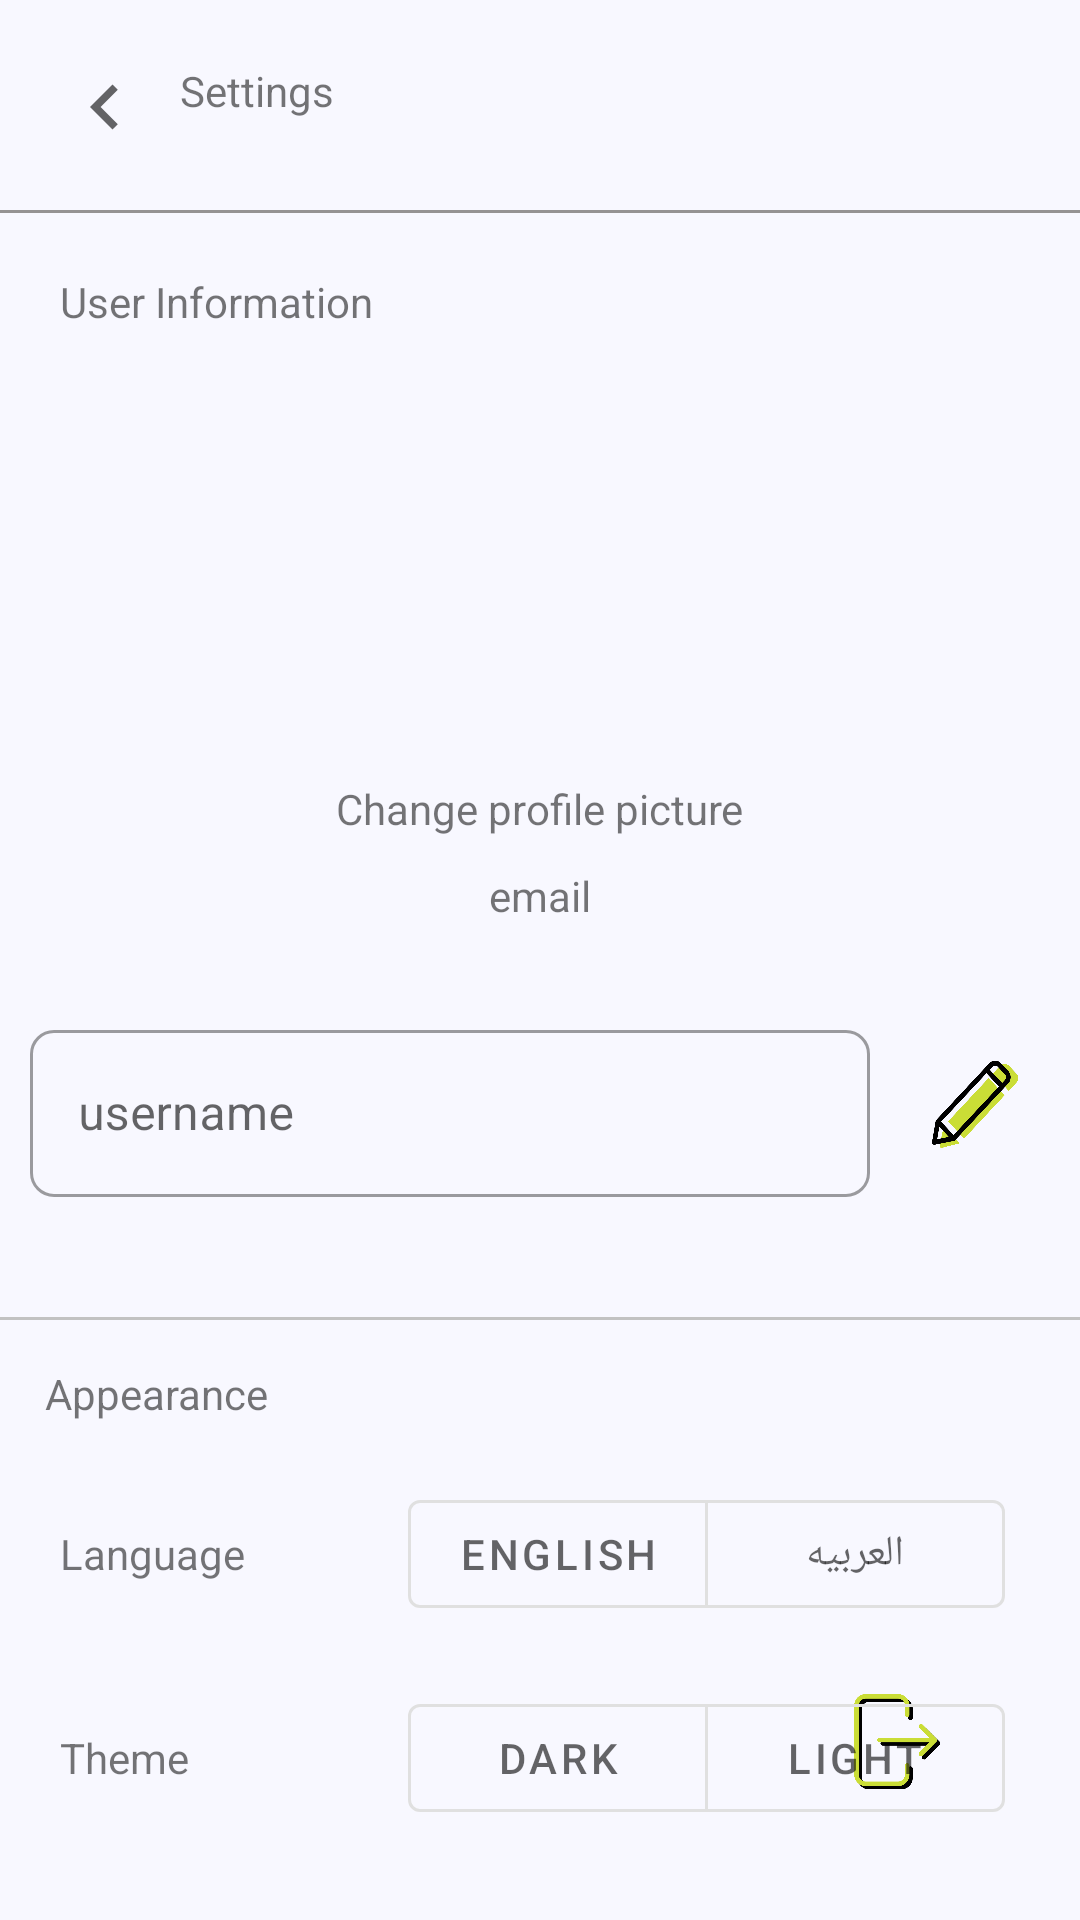

Named icons in this screenshot (1080px x 1920px) and their bounding boxes, [x1=x1, y1=y1, x2=x2, y2=y2]:
keyboard arrow left: [x1=90, y1=84, x2=118, y2=130]
